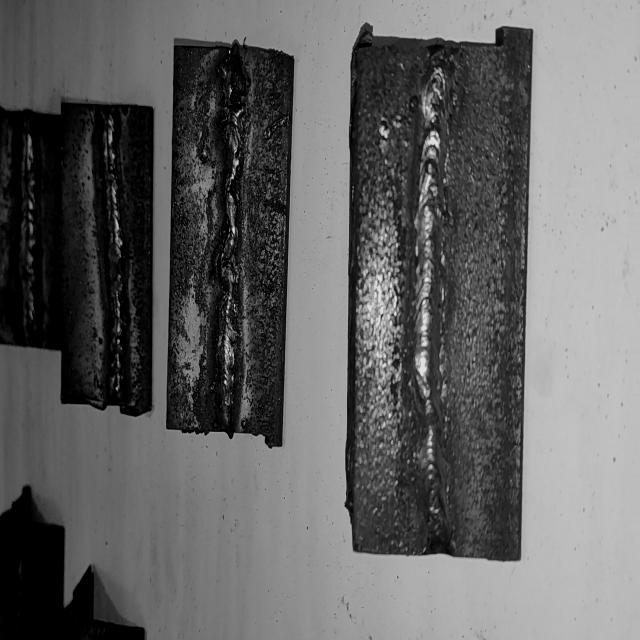Good Weld: (415, 46, 450, 547), (217, 52, 245, 427), (100, 115, 125, 395), (17, 118, 38, 342)
